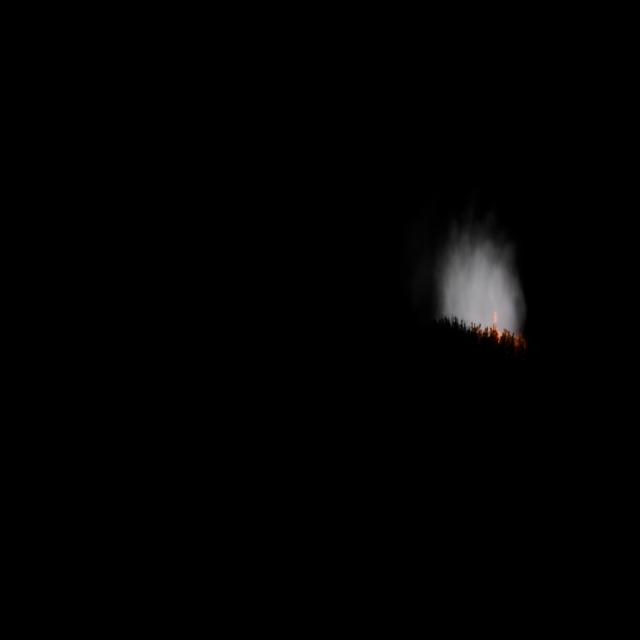smoke: (435, 223, 527, 346)
